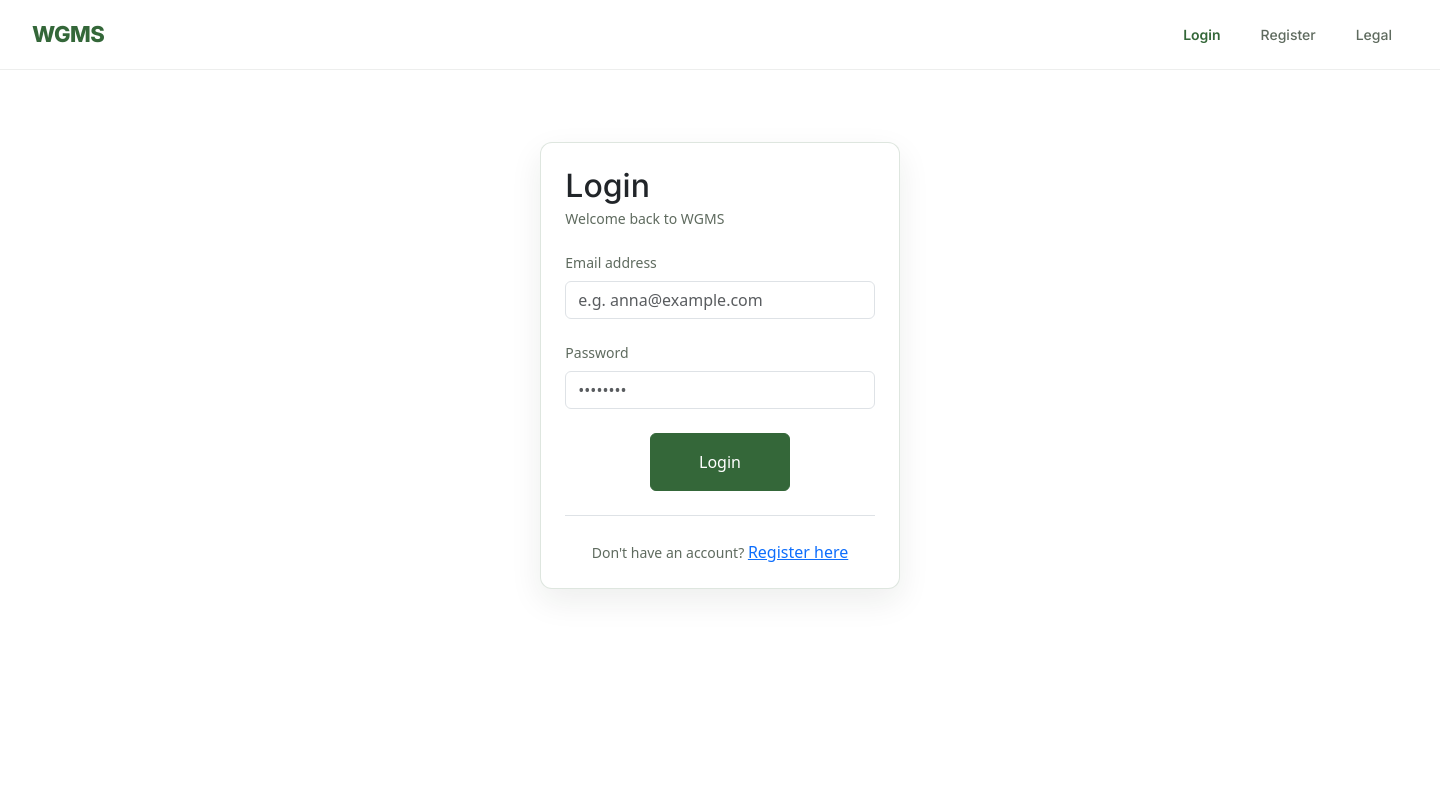
FR-01 FR-02 FR-03 frontend edge cases › FR-01 blocks malformed login email before sending authentication request
Type "not-an-email" into the field named "email".
click(720, 300); type("not-an-email")  # box [565, 281, 874, 319]
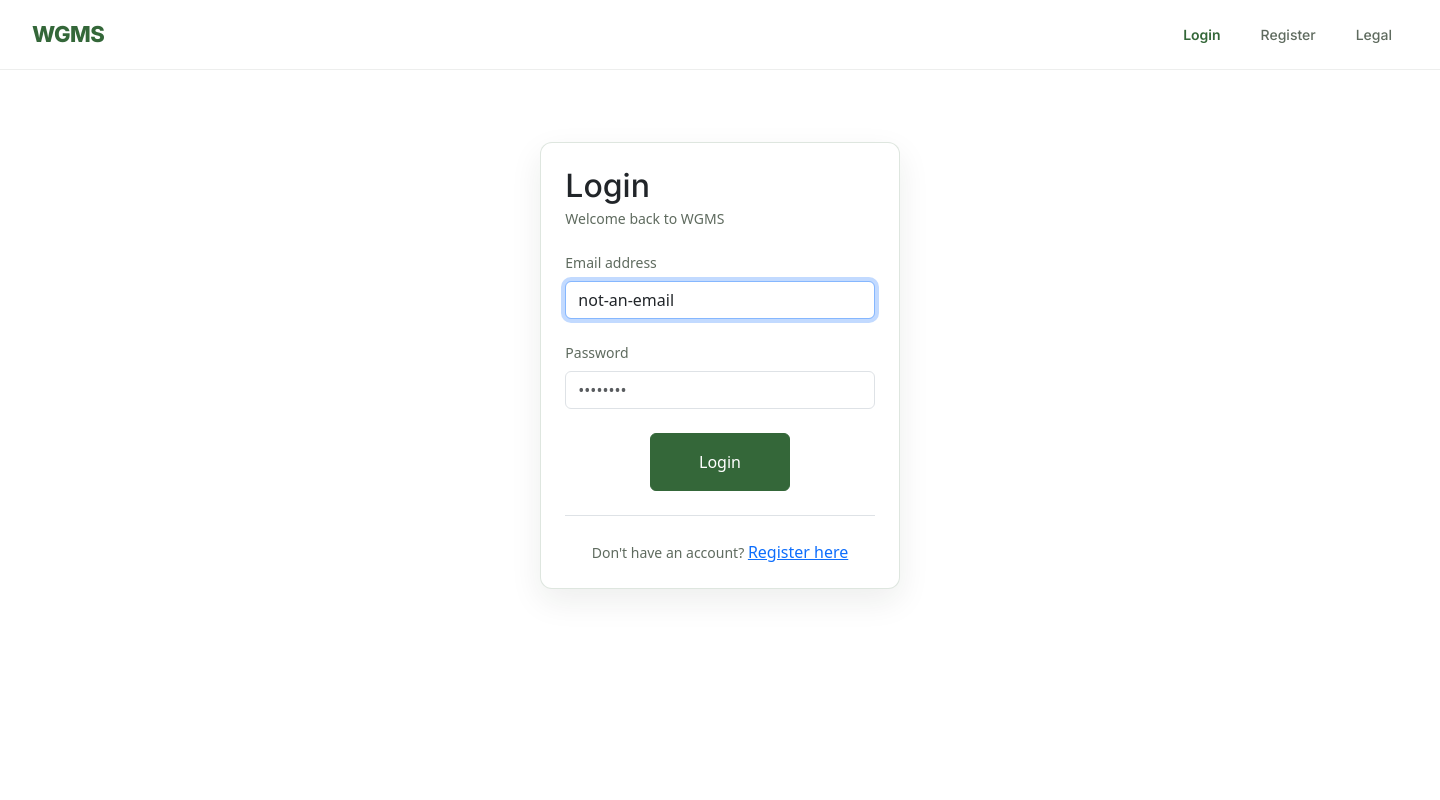
Type "Password123!" into the password field named "password".
click(720, 390); type("Password123!")  # box [565, 371, 874, 409]
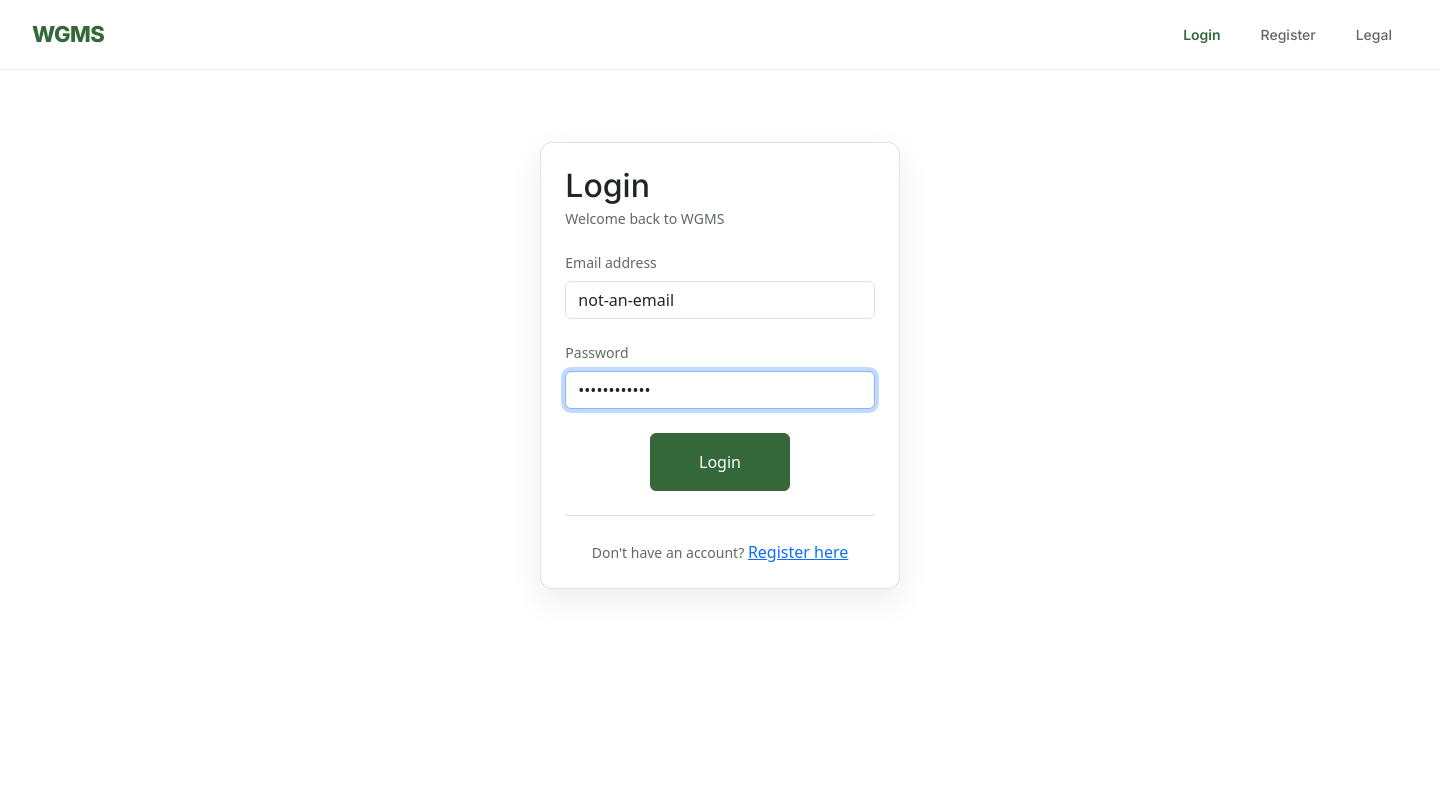
Click the button "Login".
click(720, 462)  # box [650, 433, 790, 491]
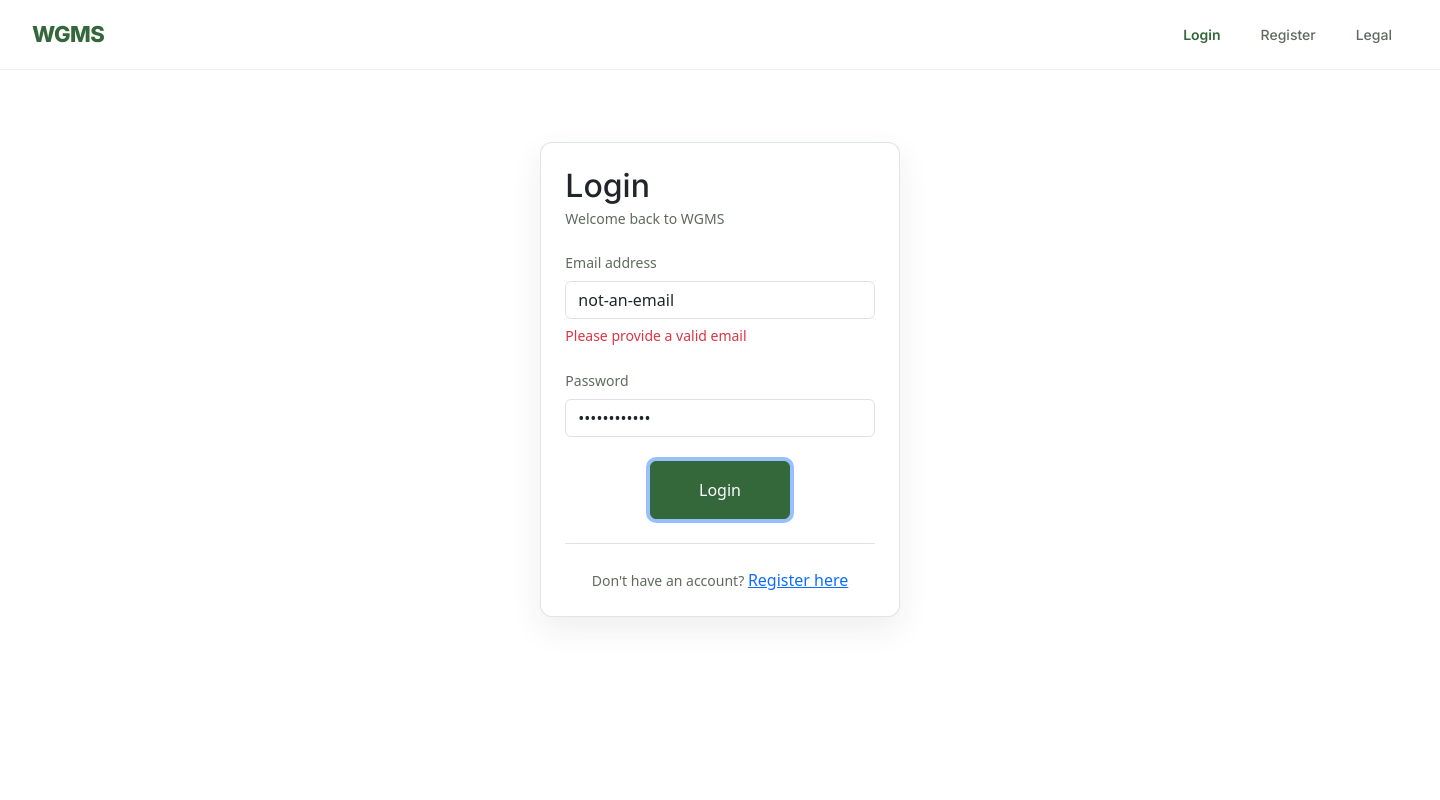
Expected: the text "Please provide a valid email" is shown, [565, 326, 747, 345]
